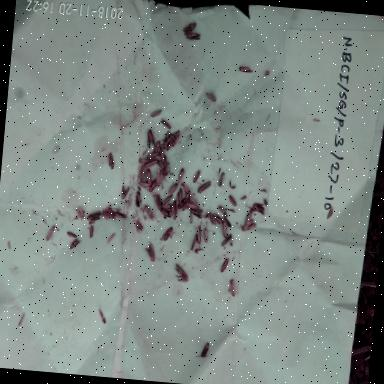pbw: (144, 242, 158, 264), (180, 20, 198, 36), (44, 224, 58, 244), (158, 115, 174, 132), (178, 182, 193, 200), (196, 179, 213, 194), (221, 232, 235, 250), (161, 226, 175, 244), (74, 203, 86, 222), (250, 202, 266, 216), (241, 220, 257, 234), (189, 208, 204, 222), (146, 128, 156, 149), (106, 152, 116, 172), (161, 192, 172, 210), (114, 208, 129, 221), (143, 206, 156, 221), (186, 196, 201, 209), (136, 180, 152, 192), (216, 172, 228, 188), (216, 206, 230, 219), (68, 238, 82, 251), (228, 278, 237, 298), (86, 211, 101, 223), (162, 132, 172, 150), (134, 191, 144, 209), (200, 341, 210, 359), (166, 134, 175, 154), (155, 168, 164, 188), (120, 184, 130, 201), (244, 208, 254, 225), (185, 32, 202, 42), (220, 257, 230, 274), (140, 156, 154, 168), (160, 155, 168, 176), (149, 107, 163, 119), (144, 158, 159, 169), (219, 222, 228, 240), (177, 167, 186, 185), (168, 182, 178, 198), (140, 164, 148, 184), (238, 65, 254, 75), (154, 194, 164, 210), (192, 168, 202, 184), (227, 195, 239, 208), (205, 91, 217, 104), (206, 214, 217, 228), (149, 179, 159, 194), (98, 308, 107, 324), (201, 228, 210, 244), (87, 223, 95, 241), (196, 226, 204, 244), (171, 132, 180, 148), (168, 202, 176, 220), (190, 234, 198, 252), (176, 188, 184, 205), (172, 205, 180, 222), (146, 168, 153, 187), (214, 215, 226, 226), (147, 150, 159, 161), (180, 196, 188, 211), (66, 230, 78, 240), (134, 222, 146, 232), (156, 158, 166, 170), (107, 207, 116, 220), (158, 148, 166, 162), (153, 140, 161, 154), (160, 210, 172, 219), (88, 218, 98, 228), (182, 201, 191, 212), (175, 192, 181, 208), (160, 203, 172, 211), (188, 212, 194, 226), (238, 194, 246, 201)
